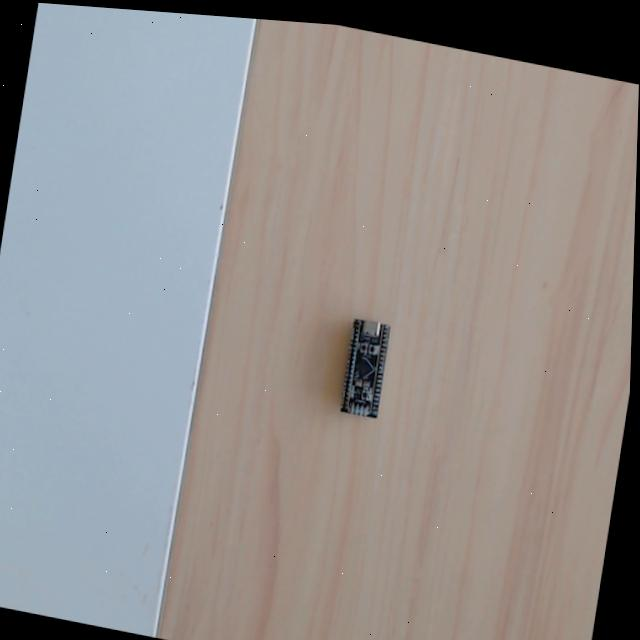STM32-Blackpill: (338, 317, 392, 421)
